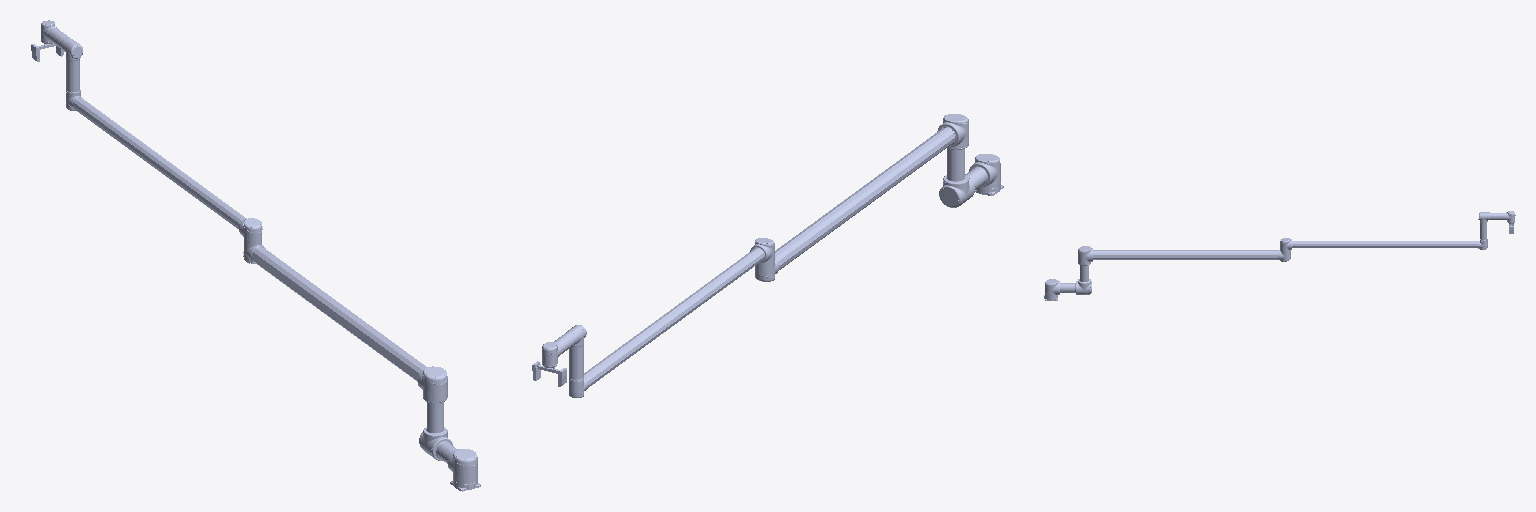
The robot description file, URDF, robot "osam_arm_4_urdf_v2":
<?xml version="1.0" encoding="utf-8" ?>
<!-- This URDF was automatically created by SolidWorks to URDF Exporter! Originally created by [author] ([email redacted]) 
     Commit Version:   Build Version: 1.6.8803.23649
     For more information, please see http://wiki.ros.org/sw_urdf_exporter -->
<robot name="osam_arm_4_urdf_v2">
    <link name="world" />
    <joint name="base_joint" type="fixed">
        <parent link="world" />
        <child link="base_link" />
        <origin rpy="0 0 0" xyz="0.0 0.0 6.0" />
    </joint>
    <link name="base_link">
        <inertial>
            <origin xyz="6.991E-06 0.018435 0.00015935" rpy="0 0 0" />
            <mass value="0.01" />
            <inertia ixx="0.002" ixy="0.0" ixz="0.0" iyy="0.02" iyz="0.0" izz="0.002" />
        </inertial>
        <visual>
            <origin xyz="0 0 0" rpy="0 0 0" />
            <geometry>
                <mesh filename="package://osam_arm_4_urdf_v2/meshes/base_link.STL" />
            </geometry>
            <material name="">
                <color rgba="0.79216 0.81961 0.93333 1" />
            </material>
        </visual>
        <collision>
            <origin xyz="0 0 0" rpy="0 0 0" />
            <geometry>
                <mesh filename="package://osam_arm_4_urdf_v2/meshes/base_link.STL" />
            </geometry>
        </collision>
    </link>
    <link name="link_1">
        <inertial>
            <origin xyz="2.5674E-06 0.090696 -0.076696" rpy="0 0 0" />
            <mass value="0.01" />
            <inertia ixx="0.002" ixy="0.0" ixz="0.0" iyy="0.02" iyz="0.0" izz="0.002" />
        </inertial>
        <visual>
            <origin xyz="0 0 0" rpy="0 0 0" />
            <geometry>
                <mesh filename="package://osam_arm_4_urdf_v2/meshes/link_1.STL" />
            </geometry>
            <material name="">
                <color rgba="0.79216 0.81961 0.93333 1" />
            </material>
        </visual>
        <collision>
            <origin xyz="0 0 0" rpy="0 0 0" />
            <geometry>
                <mesh filename="package://osam_arm_4_urdf_v2/meshes/link_1.STL" />
            </geometry>
        </collision>
    </link>
    <joint name="joint0" type="revolute">
        <origin xyz="0 0 0.030189" rpy="1.5708 0 0" />
        <parent link="base_link" />
        <child link="link_1" />
        <axis xyz="0 1 0" />
        <limit lower="-3.14" upper="3.14" effort="111" velocity="3" />
    </joint>
    <link name="link_2">
        <inertial>
            <origin xyz="-3.362E-06 0.091219 -0.083339" rpy="0 0 0" />
            <mass value="0.01" />
            <inertia ixx="0.002" ixy="0.0" ixz="0.0" iyy="0.02" iyz="0.0" izz="0.002" />
        </inertial>
        <visual>
            <origin xyz="0 0 0" rpy="0 0 0" />
            <geometry>
                <mesh filename="package://osam_arm_4_urdf_v2/meshes/link_2.STL" />
            </geometry>
            <material name="">
                <color rgba="0.79216 0.81961 0.93333 1" />
            </material>
        </visual>
        <collision>
            <origin xyz="0 0 0" rpy="0 0 0" />
            <geometry>
                <mesh filename="package://osam_arm_4_urdf_v2/meshes/link_2.STL" />
            </geometry>
        </collision>
    </link>
    <joint name="joint1" type="revolute">
        <origin xyz="0 0.097811 -0.2784" rpy="0 0 0" />
        <parent link="link_1" />
        <child link="link_2" />
        <axis xyz="0 0 1" />
        <limit lower="-3.14" upper="3.14" effort="111" velocity="3" />
    </joint>
    <link name="link_3">
        <inertial>
            <origin xyz="-1.1715E-06 -1.0393 -0.089088" rpy="0 0 0" />
            <mass value="0.01" />
            <inertia ixx="0.002" ixy="0.0" ixz="0.0" iyy="0.02" iyz="0.0" izz="0.002" />
        </inertial>
        <visual>
            <origin xyz="0 0 0" rpy="0 0 0" />
            <geometry>
                <mesh filename="package://osam_arm_4_urdf_v2/meshes/link_3.STL" />
            </geometry>
            <material name="">
                <color rgba="0.79216 0.81961 0.93333 1" />
            </material>
        </visual>
        <collision>
            <origin xyz="0 0 0" rpy="0 0 0" />
            <geometry>
                <mesh filename="package://osam_arm_4_urdf_v2/meshes/link_3.STL" />
            </geometry>
        </collision>
    </link>
    <joint name="joint2" type="revolute">
        <origin xyz="0 0.3154 -0.09" rpy="1.5708 0 0" />
        <parent link="link_2" />
        <child link="link_3" />
        <axis xyz="0 0 1" />
        <limit lower="-3.14" upper="3.14" effort="111" velocity="3" />
    </joint>
    <link name="link_4">
        <inertial>
            <origin xyz="5.3111E-08 1.0616 0.073084" rpy="0 0 0" />
            <mass value="0.01" />
            <inertia ixx="0.002" ixy="0.0" ixz="0.0" iyy="0.02" iyz="0.0" izz="0.002" />
        </inertial>
        <visual>
            <origin xyz="0 0 0" rpy="0 0 0" />
            <geometry>
                <mesh filename="package://osam_arm_4_urdf_v2/meshes/link_4.STL" />
            </geometry>
            <material name="">
                <color rgba="0.79216 0.81961 0.93333 1" />
            </material>
        </visual>
        <collision>
            <origin xyz="0 0 0" rpy="0 0 0" />
            <geometry>
                <mesh filename="package://osam_arm_4_urdf_v2/meshes/link_4.STL" />
            </geometry>
        </collision>
    </link>
    <joint name="joint3" type="revolute">
        <origin xyz="0 -2.2307 -0.14467" rpy="3.1416 0 0" />
        <parent link="link_3" />
        <child link="link_4" />
        <axis xyz="0 0 1" />
        <limit lower="-3.14" upper="3.14" effort="111" velocity="3" />
    </joint>
    <link name="link_5">
        <inertial>
            <origin xyz="1.2326E-06 0.0034231 -0.17222" rpy="0 0 0" />
            <mass value="0.01" />
            <inertia ixx="0.002" ixy="0.0" ixz="0.0" iyy="0.02" iyz="0.0" izz="0.002" />
        </inertial>
        <visual>
            <origin xyz="0 0 0" rpy="0 0 0" />
            <geometry>
                <mesh filename="package://osam_arm_4_urdf_v2/meshes/link_5.STL" />
            </geometry>
            <material name="">
                <color rgba="0.79216 0.81961 0.93333 1" />
            </material>
        </visual>
        <collision>
            <origin xyz="0 0 0" rpy="0 0 0" />
            <geometry>
                <mesh filename="package://osam_arm_4_urdf_v2/meshes/link_5.STL" />
            </geometry>
        </collision>
    </link>
    <joint name="joint4" type="revolute">
        <origin xyz="0 2.1987 0.13404" rpy="3.1416 0 -3.1416" />
        <parent link="link_4" />
        <child link="link_5" />
        <axis xyz="0 0 1" />
        <limit lower="-3.14" upper="3.14" effort="111" velocity="3" />
    </joint>
    <link name="link_6">
        <inertial>
            <origin xyz="-1.5252E-06 0.15302 -0.0038197" rpy="0 0 0" />
            <mass value="0.01" />
            <inertia ixx="0.002" ixy="0.0" ixz="0.0" iyy="0.02" iyz="0.0" izz="0.002" />
        </inertial>
        <visual>
            <origin xyz="0 0 0" rpy="0 0 0" />
            <geometry>
                <mesh filename="package://osam_arm_4_urdf_v2/meshes/link_6.STL" />
            </geometry>
            <material name="">
                <color rgba="0.79216 0.81961 0.93333 1" />
            </material>
        </visual>
        <collision>
            <origin xyz="0 0 0" rpy="0 0 0" />
            <geometry>
                <mesh filename="package://osam_arm_4_urdf_v2/meshes/link_6.STL" />
            </geometry>
        </collision>
    </link>
    <joint name="joint5" type="revolute">
        <origin xyz="0 0.060895 -0.28421" rpy="3.1416 0 -3.1416" />
        <parent link="link_5" />
        <child link="link_6" />
        <axis xyz="0 1 0" />
        <limit lower="-3.14" upper="3.14" effort="111" velocity="3" />
    </joint>
    <link name="ee_link">
        <inertial>
            <origin xyz="-2.9345E-09 0.022658 1.3952E-07" rpy="0 0 0" />
            <mass value="0.01" />
            <inertia ixx="0.002" ixy="0.0" ixz="0.0" iyy="0.02" iyz="0.0" izz="0.002" />
        </inertial>
        <visual>
            <origin xyz="0 0 0" rpy="0 0 0" />
            <geometry>
                <mesh filename="package://osam_arm_4_urdf_v2/meshes/link_7.STL" />
            </geometry>
            <material name="">
                <color rgba="0.79216 0.81961 0.93333 1" />
            </material>
        </visual>
        <collision>
            <origin xyz="0 0 0" rpy="0 0 0" />
            <geometry>
                <mesh filename="package://osam_arm_4_urdf_v2/meshes/link_7.STL" />
            </geometry>
        </collision>
    </link>
    <joint name="joint6" type="revolute">
        <origin xyz="0 0.24721 -0.0617" rpy="-1.5708 0 0" />
        <parent link="link_6" />
        <child link="ee_link" />
        <axis xyz="0 1 0" />
        <limit lower="-3.14" upper="3.14" effort="111" velocity="0" />
    </joint>
    <link name="link_8">
        <inertial>
            <origin xyz="-0.087027 0.022495 0" rpy="0 0 0" />
            <mass value="0.01" />
            <inertia ixx="0.002" ixy="0.0" ixz="0.0" iyy="0.02" iyz="0.0" izz="0.002" />
        </inertial>
        <visual>
            <origin xyz="0 0 0" rpy="0 0 0" />
            <geometry>
                <mesh filename="package://osam_arm_4_urdf_v2/meshes/link_8.STL" />
            </geometry>
            <material name="">
                <color rgba="0.79216 0.81961 0.93333 1" />
            </material>
        </visual>
        <collision>
            <origin xyz="0 0 0" rpy="0 0 0" />
            <geometry>
                <mesh filename="package://osam_arm_4_urdf_v2/meshes/link_8.STL" />
            </geometry>
        </collision>
    </link>
    <joint name="joint7" type="prismatic">
        <origin xyz="0 0.05 0" rpy="0 0 0" />
        <parent link="ee_link" />
        <child link="link_8" />
        <axis xyz="1 0 0" />
        <limit lower="0" upper="0.04" effort="111" velocity="3" />
    </joint>
    <link name="link_9">
        <inertial>
            <origin xyz="-0.16203 0.00049522 -0.03" rpy="0 0 0" />
            <mass value="0.01" />
            <inertia ixx="0.002" ixy="0.0" ixz="0.0" iyy="0.02" iyz="0.0" izz="0.002" />
        </inertial>
        <visual>
            <origin xyz="0 0 0" rpy="0 0 0" />
            <geometry>
                <mesh filename="package://osam_arm_4_urdf_v2/meshes/link_9.STL" />
            </geometry>
            <material name="">
                <color rgba="0.79216 0.81961 0.93333 1" />
            </material>
        </visual>
        <collision>
            <origin xyz="0 0 0" rpy="0 0 0" />
            <geometry>
                <mesh filename="package://osam_arm_4_urdf_v2/meshes/link_9.STL" />
            </geometry>
        </collision>
    </link>
    <joint name="joint8" type="prismatic">
        <origin xyz="-0.075 0.072 -0.03" rpy="3.1416 0 3.1416" />
        <parent link="ee_link" />
        <child link="link_9" />
        <axis xyz="1 0 0" />
        <limit lower="-0.04" upper="0" effort="111" velocity="3" />
    </joint>
    <transmission name="link_1_trans">
        <type>transmission_interface/SimpleTransmission</type>
        <joint name="joint0">
            <hardwareInterface>hardware_interface/PositionJointInterface</hardwareInterface>
        </joint>
        <actuator name="link_1_motor">
            <hardwareInterface>hardware_interface/PositionJointInterface</hardwareInterface>
            <mechanicalReduction>1</mechanicalReduction>
        </actuator>
    </transmission>
    <transmission name="link_2_trans">
        <type>transmission_interface/SimpleTransmission</type>
        <joint name="joint1">
            <hardwareInterface>hardware_interface/PositionJointInterface</hardwareInterface>
        </joint>
        <actuator name="link_2_motor">
            <hardwareInterface>hardware_interface/PositionJointInterface</hardwareInterface>
            <mechanicalReduction>1</mechanicalReduction>
        </actuator>
    </transmission>
    <transmission name="link_3_trans">
        <type>transmission_interface/SimpleTransmission</type>
        <joint name="joint2">
            <hardwareInterface>hardware_interface/PositionJointInterface</hardwareInterface>
        </joint>
        <actuator name="link_3_motor">
            <hardwareInterface>hardware_interface/PositionJointInterface</hardwareInterface>
            <mechanicalReduction>1</mechanicalReduction>
        </actuator>
    </transmission>
    <transmission name="link_4_trans">
        <type>transmission_interface/SimpleTransmission</type>
        <joint name="joint3">
            <hardwareInterface>hardware_interface/PositionJointInterface</hardwareInterface>
        </joint>
        <actuator name="link_4_motor">
            <hardwareInterface>hardware_interface/PositionJointInterface</hardwareInterface>
            <mechanicalReduction>1</mechanicalReduction>
        </actuator>
    </transmission>
    <transmission name="link_5_trans">
        <type>transmission_interface/SimpleTransmission</type>
        <joint name="joint4">
            <hardwareInterface>hardware_interface/PositionJointInterface</hardwareInterface>
        </joint>
        <actuator name="link_5_motor">
            <hardwareInterface>hardware_interface/PositionJointInterface</hardwareInterface>
            <mechanicalReduction>1</mechanicalReduction>
        </actuator>
    </transmission>
    <transmission name="link_6_trans">
        <type>transmission_interface/SimpleTransmission</type>
        <joint name="joint5">
            <hardwareInterface>hardware_interface/PositionJointInterface</hardwareInterface>
        </joint>
        <actuator name="link_6_motor">
            <hardwareInterface>hardware_interface/PositionJointInterface</hardwareInterface>
            <mechanicalReduction>1</mechanicalReduction>
        </actuator>
    </transmission>
    <transmission name="ee_link_trans">
        <type>transmission_interface/SimpleTransmission</type>
        <joint name="joint6">
            <hardwareInterface>hardware_interface/PositionJointInterface</hardwareInterface>
        </joint>
        <actuator name="ee_link_motor">
            <hardwareInterface>hardware_interface/PositionJointInterface</hardwareInterface>
            <mechanicalReduction>1</mechanicalReduction>
        </actuator>
    </transmission>
    <transmission name="link_8_trans">
        <type>transmission_interface/SimpleTransmission</type>
        <joint name="joint7">
            <hardwareInterface>hardware_interface/PositionJointInterface</hardwareInterface>
        </joint>
        <actuator name="link_8_motor">
            <hardwareInterface>hardware_interface/PositionJointInterface</hardwareInterface>
            <mechanicalReduction>1</mechanicalReduction>
        </actuator>
    </transmission>
    <transmission name="link_9_trans">
        <type>transmission_interface/SimpleTransmission</type>
        <joint name="joint8">
            <hardwareInterface>hardware_interface/PositionJointInterface</hardwareInterface>
        </joint>
        <actuator name="link_9_motor">
            <hardwareInterface>hardware_interface/PositionJointInterface</hardwareInterface>
            <mechanicalReduction>1</mechanicalReduction>
        </actuator>
    </transmission>
    <gazebo>
        <plugin name="control" filename="libgazebo_ros_control.so">
            <robotNamespace>/</robotNamespace>
        </plugin>
        <plugin name="gazebo_ros_control" filename="libgazebo_ros_control.so">
            <robotNamespace>/</robotNamespace>
        </plugin>
    </gazebo>
    <gazebo reference="link_1">
        <selfCollide>true</selfCollide>
    </gazebo>
    <gazebo reference="link_2">
        <selfCollide>true</selfCollide>
    </gazebo>
    <gazebo reference="link_3">
        <selfCollide>true</selfCollide>
    </gazebo>
    <gazebo reference="link_4">
        <selfCollide>true</selfCollide>
    </gazebo>
    <gazebo reference="link_5">
        <selfCollide>true</selfCollide>
    </gazebo>
    <gazebo reference="link_6">
        <selfCollide>true</selfCollide>
    </gazebo>
    <gazebo reference="ee_link">
        <selfCollide>true</selfCollide>
    </gazebo>
    <gazebo reference="link_8">
        <selfCollide>true</selfCollide>
    </gazebo>
    <gazebo reference="link_9">
        <selfCollide>true</selfCollide>
    </gazebo>
</robot>

--- What the picture shows (computed from the rendered views, not written in the file) ---
3 views of the same robot in one strip: view 1: azimuth 30°, elevation 25°; view 2: azimuth 150°, elevation 25°; view 3: azimuth 270°, elevation 25° (orthographic).
Robot: osam_arm_4_urdf_v2 — 11 links, 10 joints (7 revolute, 2 prismatic, 1 fixed); root link world; default pose: every joint at zero.
Links seen in each view (by area): view 1: link_3, link_4, link_1, link_2, link_5; view 2: link_3, link_4, link_2, link_1, link_5, link_6; view 3: link_3, link_4.
Boxes of the visible links, x1,y1,x2,y2 form: link_3: (243,242,447,402); link_4: (66,91,262,243); link_1: (432,438,477,484); link_2: (419,400,447,457); link_5: (62,38,82,93); link_3: (755,114,968,281); link_4: (569,238,774,397); link_2: (939,145,974,207); link_1: (965,154,1000,189); link_5: (568,325,586,381); link_6: (542,331,577,365); link_3: (1078,246,1290,264); link_4: (1280,238,1487,251).
Size in the robot's own frame: 0.2 by 5.23 by 1.06 metres.
Meshes: 10 distinct files referenced, 10 mesh visuals loaded (10 binary STL).
